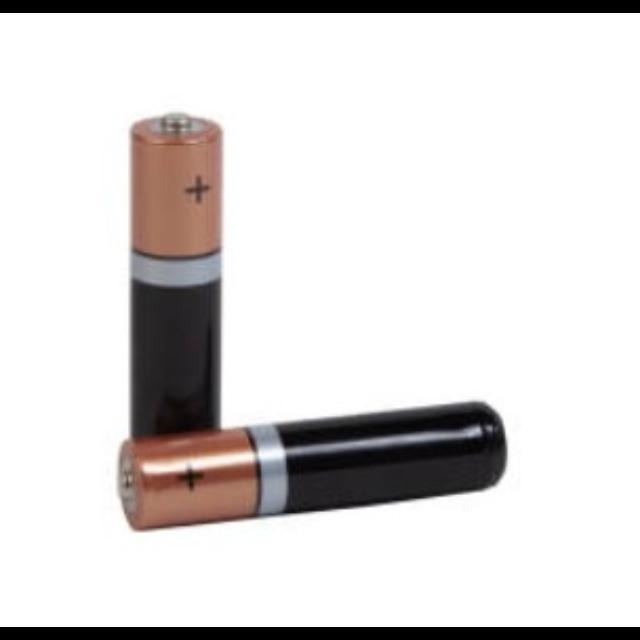Battery: (120, 405, 507, 530), (131, 114, 223, 439)
